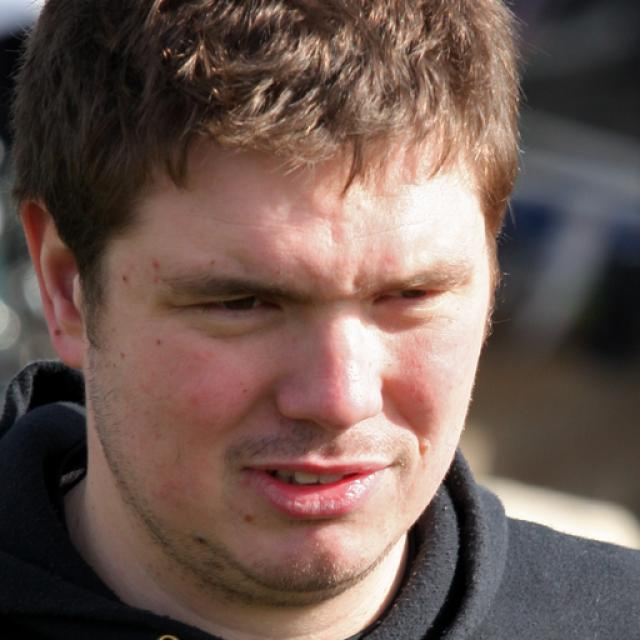Acne: (411, 428, 435, 457), (140, 257, 169, 280), (236, 503, 260, 529)
